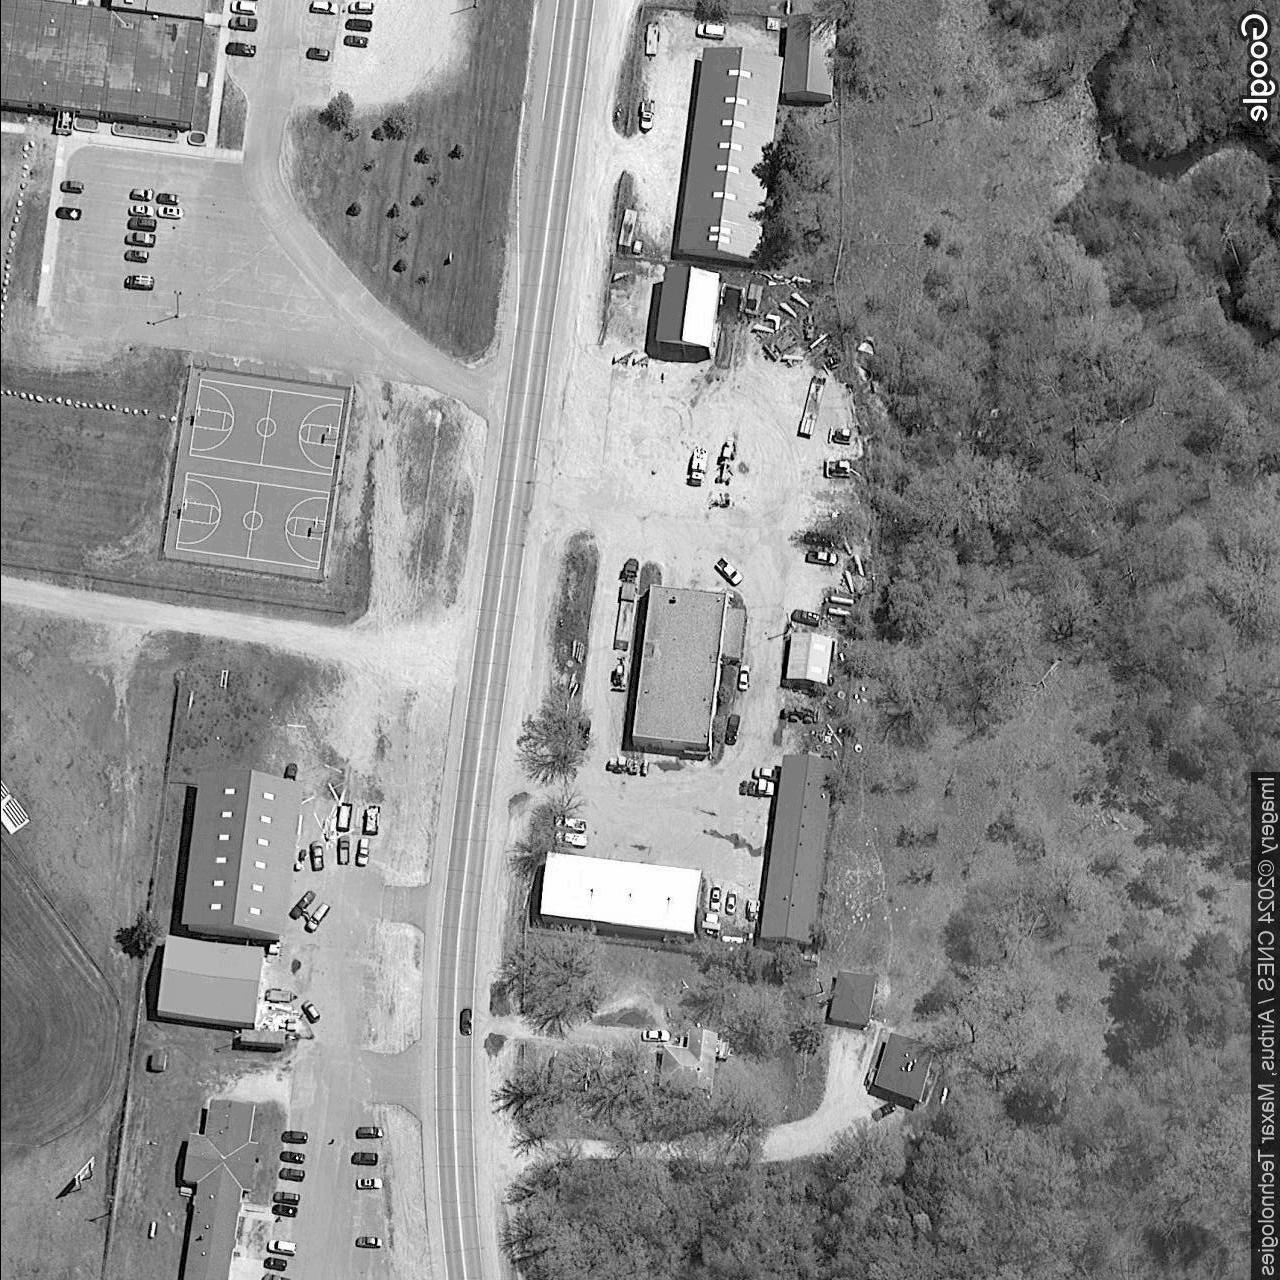Garage: (781, 628, 835, 689), (826, 969, 878, 1033)
House: (182, 1097, 259, 1279), (871, 1028, 937, 1105), (656, 1027, 719, 1096)
Other: (676, 45, 785, 266), (178, 767, 306, 944), (631, 580, 748, 756), (538, 849, 704, 944), (757, 754, 837, 949), (156, 932, 266, 1030), (651, 263, 722, 352), (782, 12, 838, 105)
Propane: (937, 1085, 951, 1108), (145, 1218, 157, 1241), (719, 935, 745, 945)
